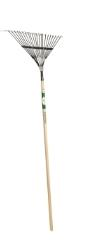RATEAU: (0, 3, 78, 240)
